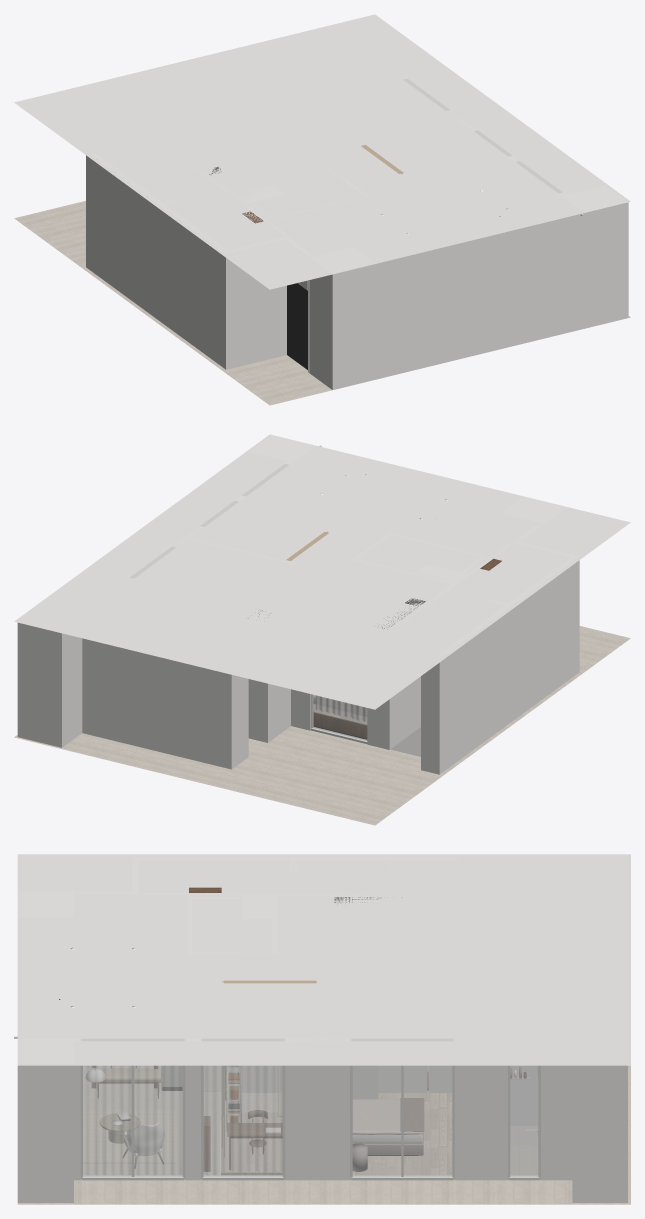
Rendered from apartment_mobile-l1pkZxG2.glb.
3 views of the same model, one above another, from view 1: azimuth 30°, elevation 25°; view 2: azimuth 150°, elevation 25°; view 3: azimuth 270°, elevation 25° (orthographic). The views are drawn at different scales.
Visible parts, largest first — view 1: ceiling, wall_38, wall_10, wall_36, floor_tile, wall_37, wall_33, door_entrance, wall_34; view 2: ceiling, floor_tile, wall_10, wall_1, wall_0, wall_9, win_bedB_glass, wall_14, wall_6, wall_2, wall_12, wall_36 (+5 smaller); view 3: ceiling, floor_tile, win_east3_glass, curtain_east_living, win_east1_glass, wall_37, win_east2_glass, curtain_east_studio, wall_17, wall_0, wall_5, floor_oak_master (+25 smaller).
Boxes of the visible parts, x1,y1,x2,y2 form: ceiling: (14,14,630,289); wall_38: (377,213,584,379); wall_10: (89,152,231,369); wall_36: (309,246,376,389); floor_tile: (14,201,630,405); wall_37: (566,185,628,327); wall_33: (229,236,289,368); door_entrance: (287,283,307,369); wall_34: (558,192,589,328); ceiling: (14,434,630,709); floor_tile: (14,626,630,825); wall_10: (438,555,579,771); wall_1: (82,638,234,769); wall_0: (17,622,82,747); wall_9: (421,653,442,774); win_bedB_glass: (313,695,366,740); wall_14: (389,588,450,746); wall_6: (219,613,270,742); wall_2: (232,648,248,766); wall_12: (367,627,392,749); wall_36: (501,496,567,524); ceiling: (17,854,630,1065); floor_tile: (17,1065,630,1204); win_east3_glass: (83,1066,182,1176); curtain_east_living: (83,1066,182,1174); win_east1_glass: (353,1066,451,1176); wall_37: (17,1041,73,1202); win_east2_glass: (204,1066,282,1176); curtain_east_studio: (204,1066,282,1174); wall_17: (285,1038,349,1180); wall_0: (572,1065,627,1202); wall_5: (454,1039,507,1180); floor_oak_master: (352,1093,452,1175).
Bounding box in the file's own units: 9.79 × 3 × 12.09.
115 materials, 23 textured.
